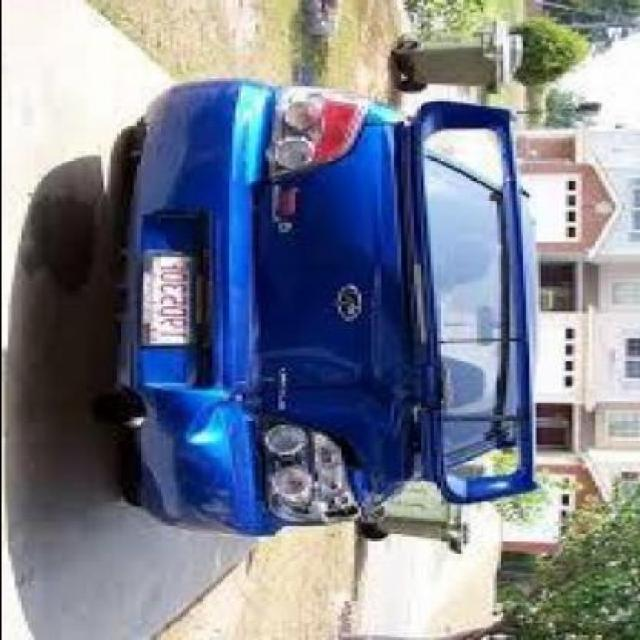damage: (174, 337, 402, 524)
